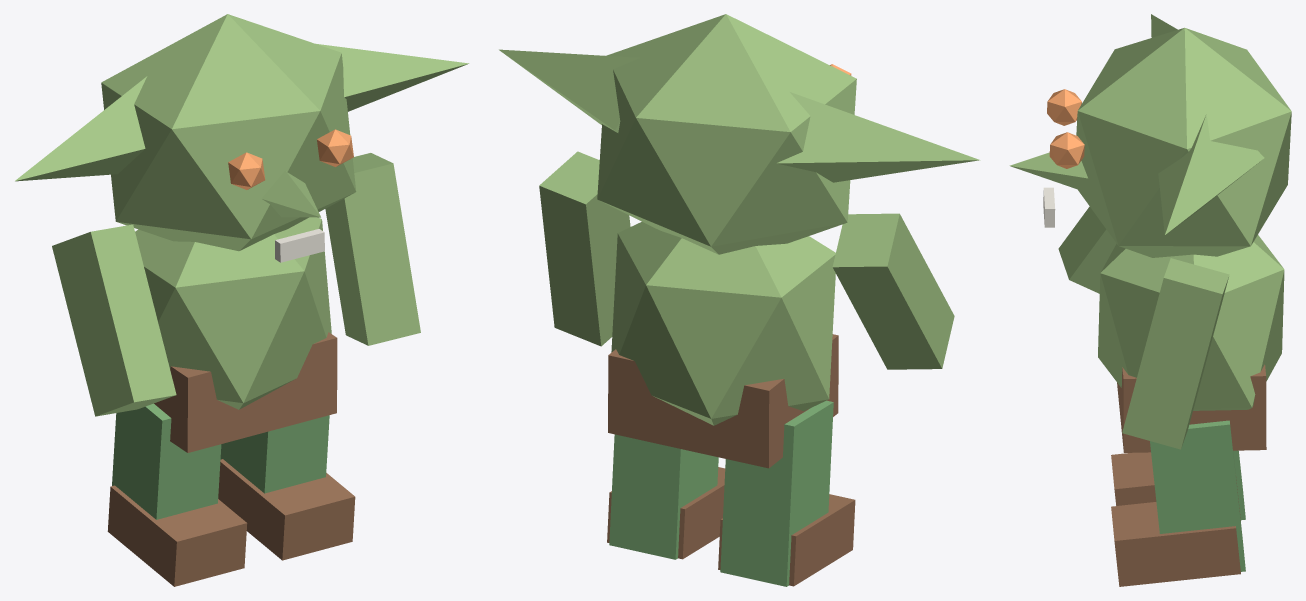
The model's file is npcpose_goblin_attack_09.glb.
The picture shows the model from 3 angles, left to right: view 1: azimuth 30°, elevation 25°; view 2: azimuth 150°, elevation 25°; view 3: azimuth 270°, elevation 25°; orthographic projection. The views are drawn at different scales.
Visible parts, largest first — view 1: npcpose; view 2: npcpose; view 3: npcpose.
Part boxes in pixels (box(x1,y1,x2,y2)): npcpose: box(15, 14, 469, 586); npcpose: box(499, 14, 980, 586); npcpose: box(1009, 14, 1291, 586).
Bounding box in the file's own units: 1.03 × 1.12 × 0.5543.
